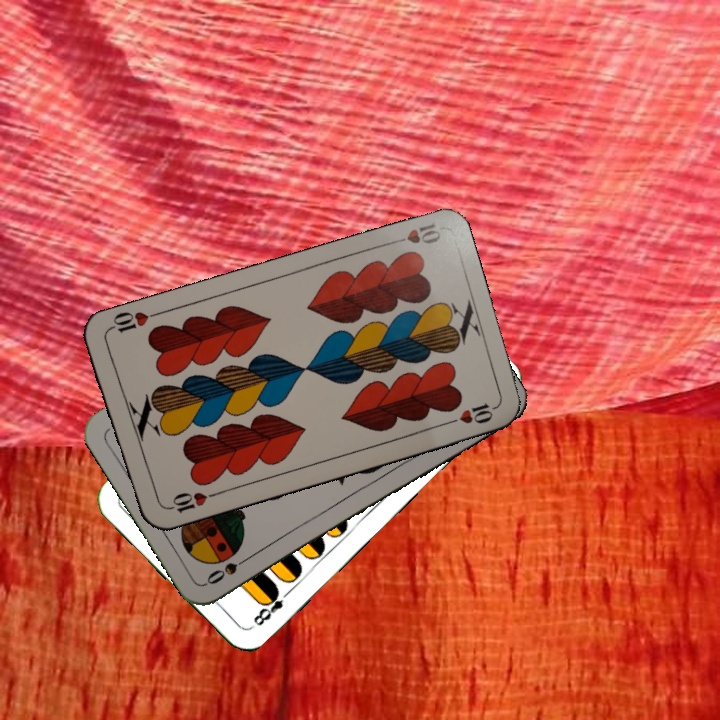E8: (249, 584, 294, 629)
H10: (385, 218, 444, 247), (161, 488, 219, 515)
SO: (202, 550, 256, 587)
